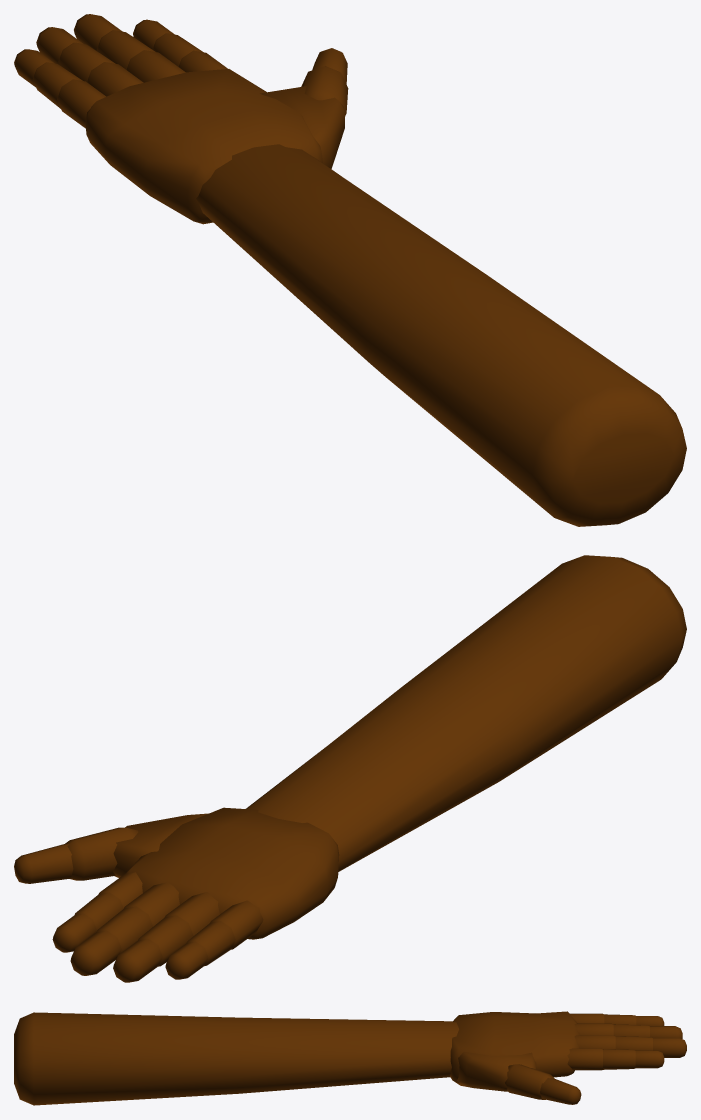
File: right_hand.glb
3 renders of one model, top to bottom at view 1: azimuth 30°, elevation 25°; view 2: azimuth 150°, elevation 25°; view 3: azimuth 270°, elevation 25°, orthographic. The views are drawn at different scales.
Visible parts, largest first — view 1: arm_lower, hand, thumb_0, pinky_0, thumb_1, middle_1, middle_0, ring_1, ring_0, pinky_1, middle_2, ring_2 (+1 smaller); view 2: arm_lower, hand, thumb_1, thumb_0, thumb_2, middle_2, ring_2, ring_1, middle_1, pinky_0, middle_0, ring_0 (+5 smaller); view 3: arm_lower, hand, thumb_0, thumb_1, thumb_2, index_0, index_1, middle_2, middle_0, middle_1, index_2, ring_0 (+5 smaller).
Part boxes in pixels (x1,y1,x2,y2): arm_lower: (196, 144, 686, 526); hand: (85, 69, 322, 224); thumb_0: (260, 86, 344, 168); pinky_0: (57, 79, 106, 128); thumb_1: (301, 66, 348, 116); middle_1: (96, 30, 155, 69); middle_0: (126, 50, 185, 82); ring_1: (58, 42, 115, 81); ring_0: (87, 62, 143, 96); pinky_1: (32, 62, 82, 108); middle_2: (74, 14, 122, 50); ring_2: (36, 27, 83, 64); arm_lower: (246, 555, 686, 871); hand: (126, 807, 339, 939); thumb_1: (65, 827, 138, 880); thumb_0: (113, 813, 208, 877); thumb_2: (14, 844, 73, 883); middle_2: (70, 930, 121, 975); ring_2: (113, 938, 162, 982); ring_1: (138, 915, 193, 966); middle_1: (96, 906, 152, 953); pinky_0: (210, 900, 263, 949); middle_0: (124, 882, 179, 926); ring_0: (165, 892, 219, 935); arm_lower: (14, 1012, 458, 1105); hand: (450, 1011, 580, 1083); thumb_0: (452, 1051, 536, 1091); thumb_1: (505, 1064, 554, 1099); thumb_2: (540, 1078, 581, 1104); index_0: (567, 1048, 602, 1070); index_1: (603, 1049, 635, 1069); middle_2: (653, 1038, 686, 1057); middle_0: (574, 1035, 615, 1049); middle_1: (615, 1036, 652, 1050); index_2: (635, 1050, 664, 1068); ring_0: (574, 1023, 613, 1035).
Bounding box in the file's own units: 2.89 × 1.4 × 10.35.
